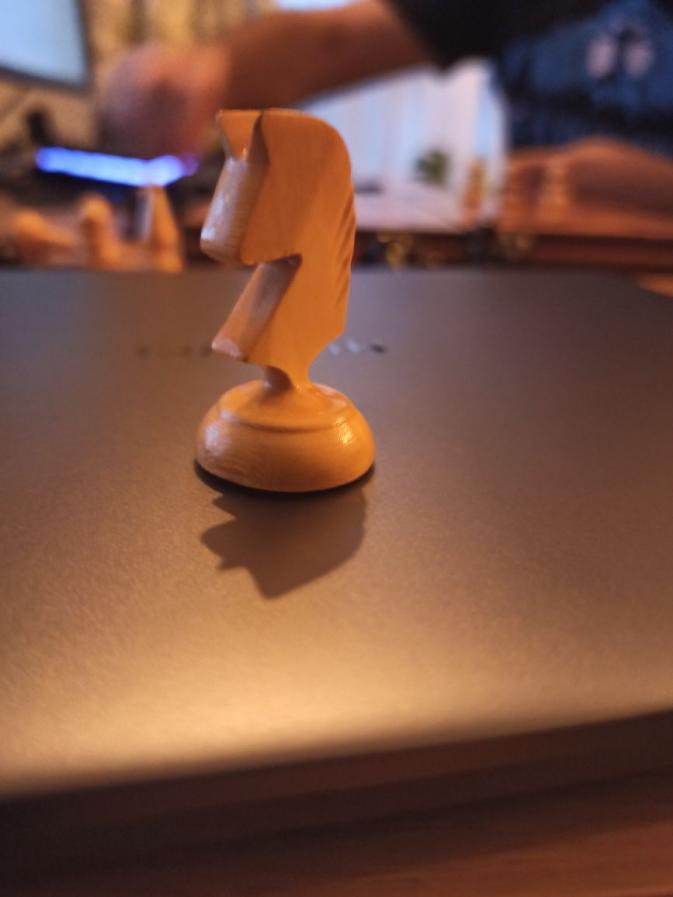wknight: (196, 109, 377, 498)
